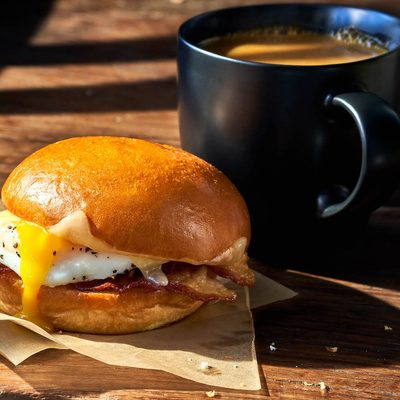pizza: (175, 3, 400, 275)
soup: (0, 136, 255, 334)
